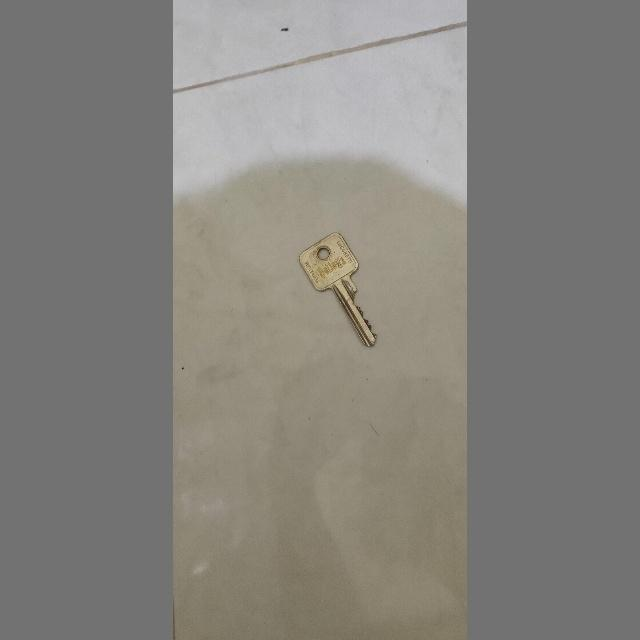Keys: (289, 230, 391, 350)
